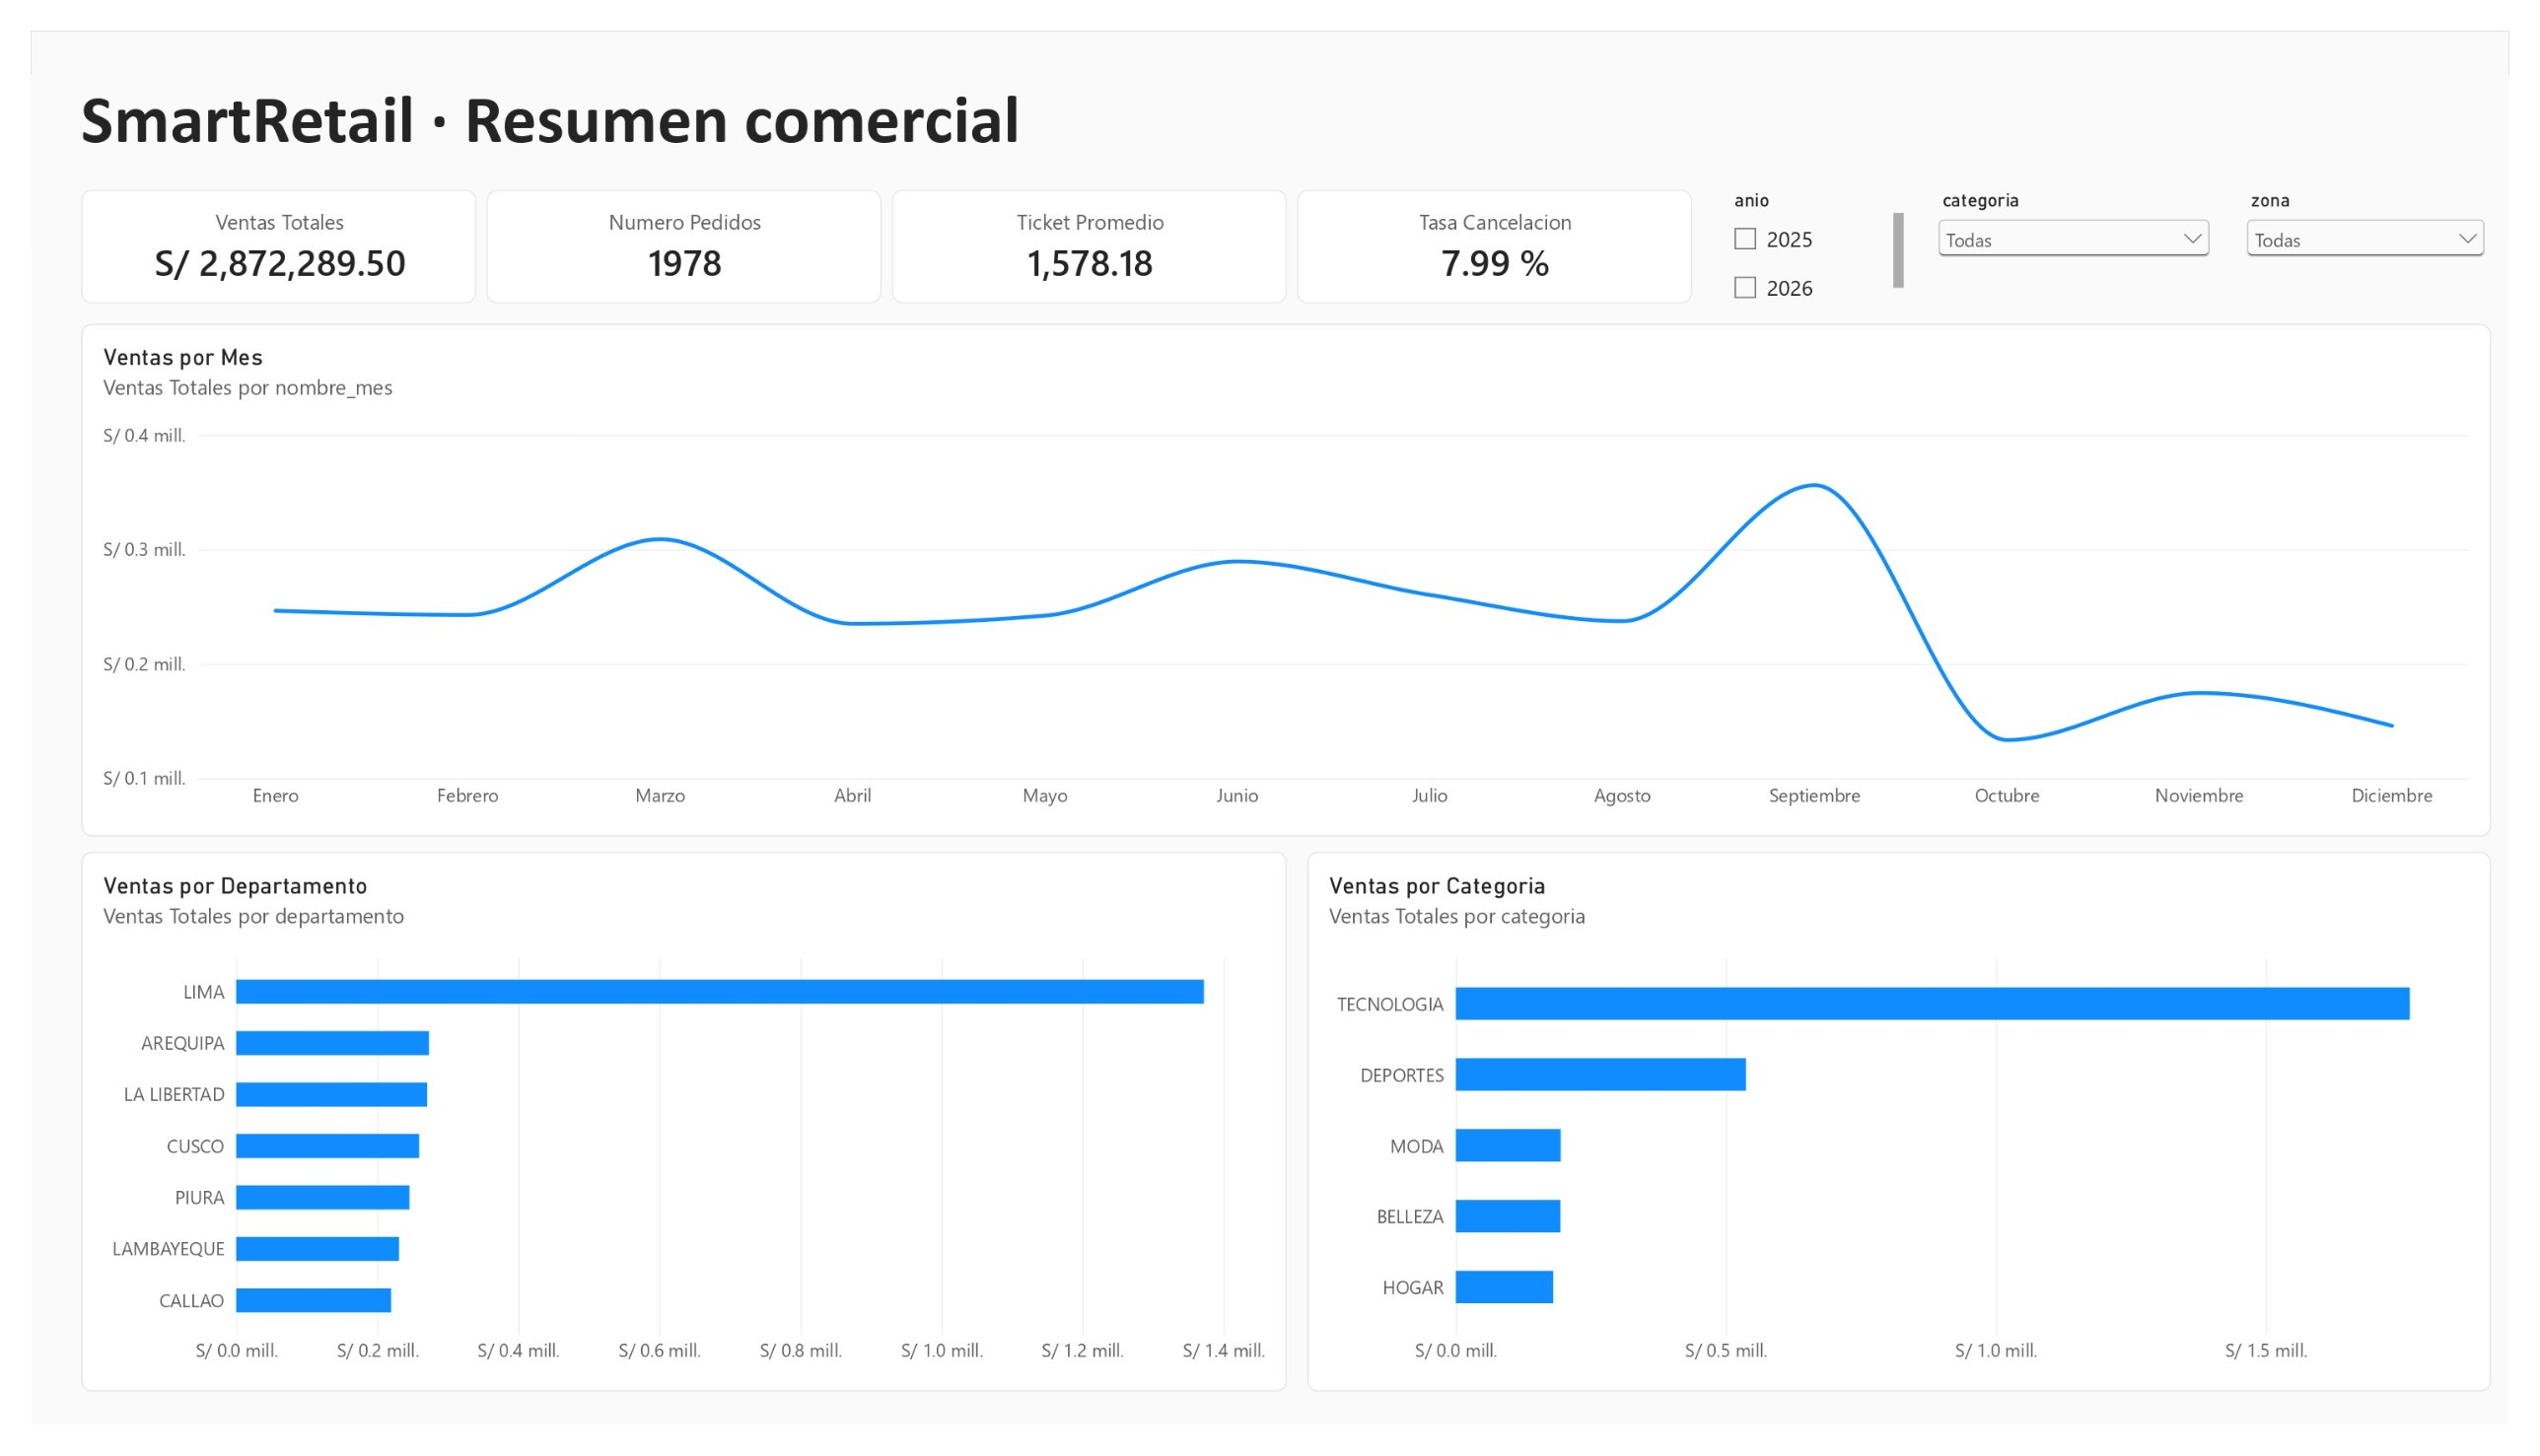

The page's visual inventory and layout, read from the dashboard file:
{"tool":"powerbi","page":{"name":"Resumen Comercial","canvas":[1920,1080],"ordinal":0},"visuals":[{"type":"textbox","box":[39.4,34.7,732.4,75.6],"z":0},{"type":"cardVisual","fields":{"Data":["Fact_Ventas_Envios.Ventas Totales","Fact_Ventas_Envios.Numero Pedidos","Fact_Ventas_Envios.Ticket Promedio","Fact_Ventas_Envios.Tasa Cancelacion"]},"box":[39.4,122.9,1247.4,88.2],"z":1000},{"type":"lineChart","title":"Ventas por Mes","fields":{"Category":["Dim_Tiempo.Calendario.anio","Dim_Tiempo.Calendario.trimestre","Dim_Tiempo.Calendario.nombre_mes"],"Y":["Fact_Ventas_Envios.Ventas Totales"]},"box":[39.4,226.8,1866.4,396.9],"z":2000},{"type":"clusteredBarChart","title":"Ventas por Categoria","fields":{"Category":["Dim_Producto.categoria"],"Y":["Fact_Ventas_Envios.Ventas Totales"]},"box":[989.1,636.3,916.7,417.4],"z":3000},{"type":"clusteredBarChart","title":"Ventas por Departamento","fields":{"Category":["Dim_Ubicacion.departamento"],"Y":["Fact_Ventas_Envios.Ventas Totales"]},"box":[39.4,636.3,934,417.4],"z":4000},{"type":"slicer","fields":{"Values":["Dim_Tiempo.Calendario.anio"]},"box":[1312,122.9,138.6,88.2],"z":5000},{"type":"slicer","fields":{"Values":["Dim_Producto.categoria"]},"box":[1472.7,122.9,220.5,88.2],"z":6000},{"type":"slicer","fields":{"Values":["Dim_Ubicacion.zona"]},"box":[1712.1,122.9,193.7,88.2],"z":7000}]}

Visuals, with their boxes in screenshot pixels (x1, y1, x2, y2), scaled from the page's 1920x1080 canvas onto the 2540x1456 screenshot:
textbox: 52 46 1021 149
cardVisual - Fact_Ventas_Envios.Ventas Totales x Fact_Ventas_Envios.Numero Pedidos: 52 166 1702 285
"Ventas por Mes" lineChart: 52 306 2521 841
"Ventas por Categoria" clusteredBarChart: 1308 858 2521 1421
"Ventas por Departamento" clusteredBarChart: 52 858 1288 1421
slicer - Dim_Tiempo.Calendario.anio: 1735 166 1919 285
slicer - Dim_Producto.categoria: 1948 166 2240 285
slicer - Dim_Ubicacion.zona: 2265 166 2521 285
